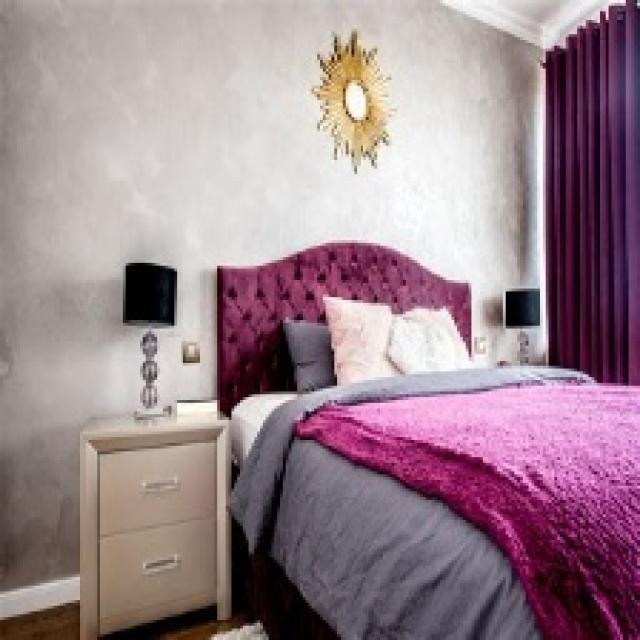Bed: (214, 240, 637, 637)
